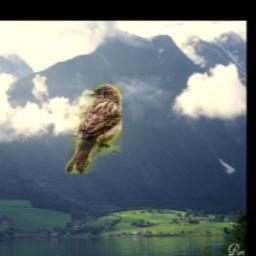Sparrow: (65, 83, 122, 173)
